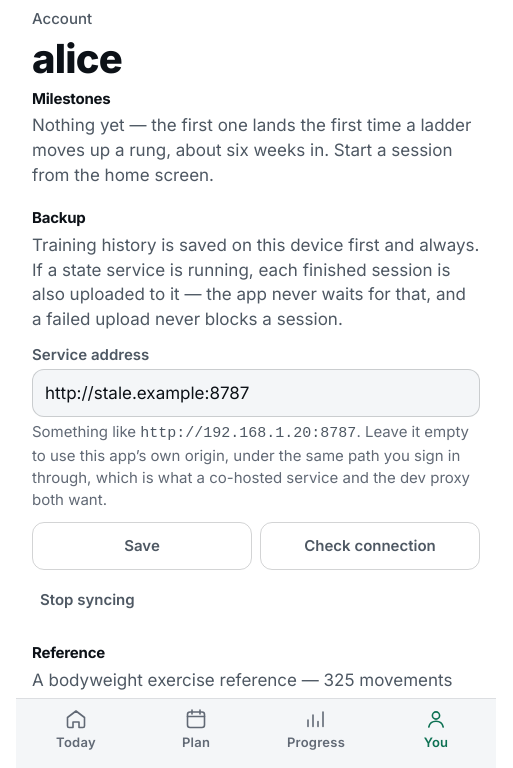
the connection check › tests the address currently in the field, not the one last saved
(page scrolled)
Step 1. Replace the text in the field labelled "Service address" with "http://192.168.1.20:8787" → (256, 393), box top-left (32, 369), bottom-right (480, 417)
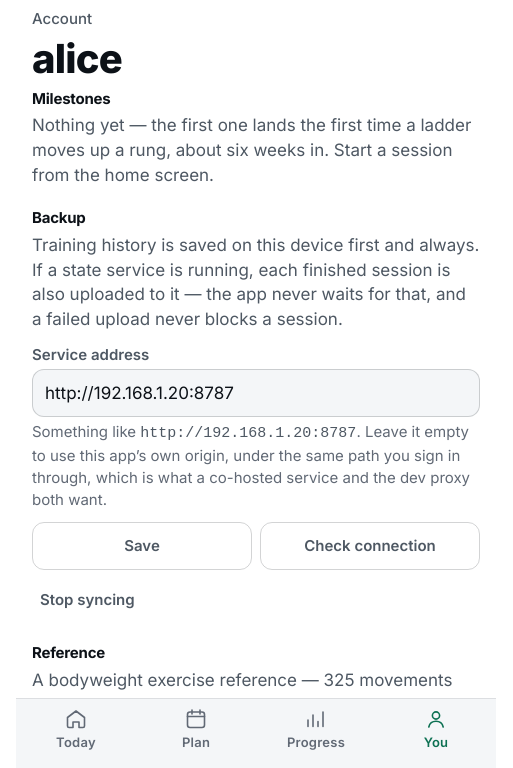
Step 2. Click the button "Check connection" → click(370, 546), box top-left (260, 522), bottom-right (480, 570)
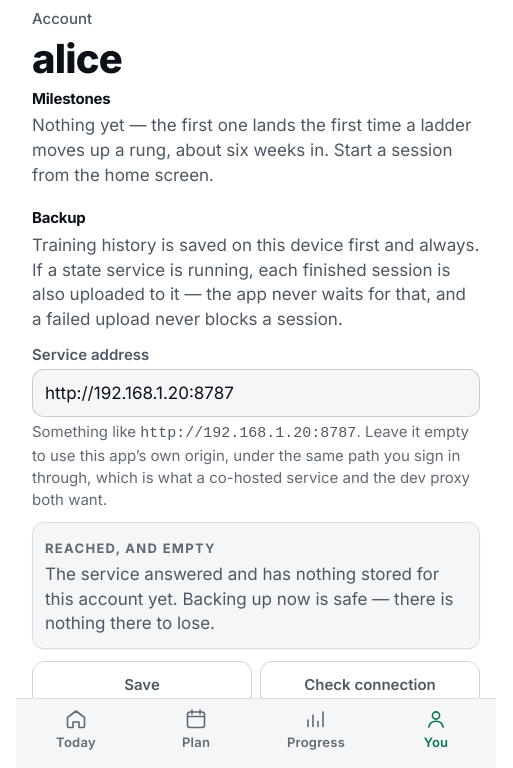
Now the element with test id "sync-status" is shown, box top-left (32, 522), bottom-right (480, 649)
